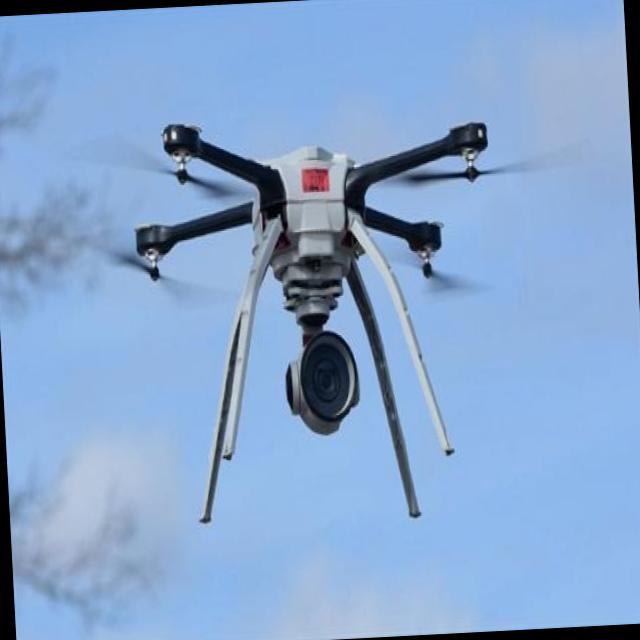drone: (125, 91, 511, 534)
